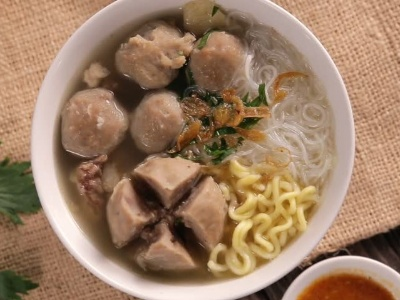bakso: (65, 13, 307, 263)
